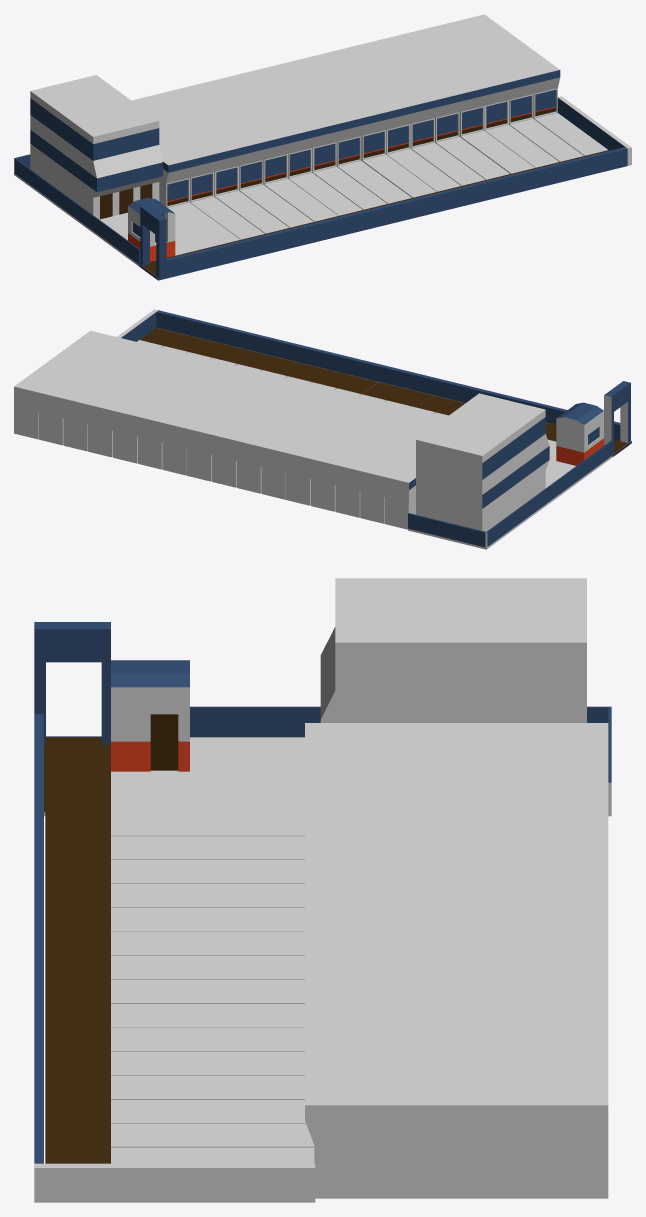
The picture shows the model from 3 angles, top to bottom: view 1: azimuth 30°, elevation 25°; view 2: azimuth 150°, elevation 25°; view 3: azimuth 270°, elevation 25°; orthographic projection. The views are drawn at different scales.
Parts seen in each view (by area): view 1: wh-l7; view 2: wh-l7; view 3: wh-l7.
Part boxes in pixels (bbox=[...]): wh-l7: bbox=[14, 14, 631, 280]; wh-l7: bbox=[14, 309, 631, 549]; wh-l7: bbox=[34, 578, 611, 1202].
Size of the model in its own units: 40 by 6.94 by 21.1.
